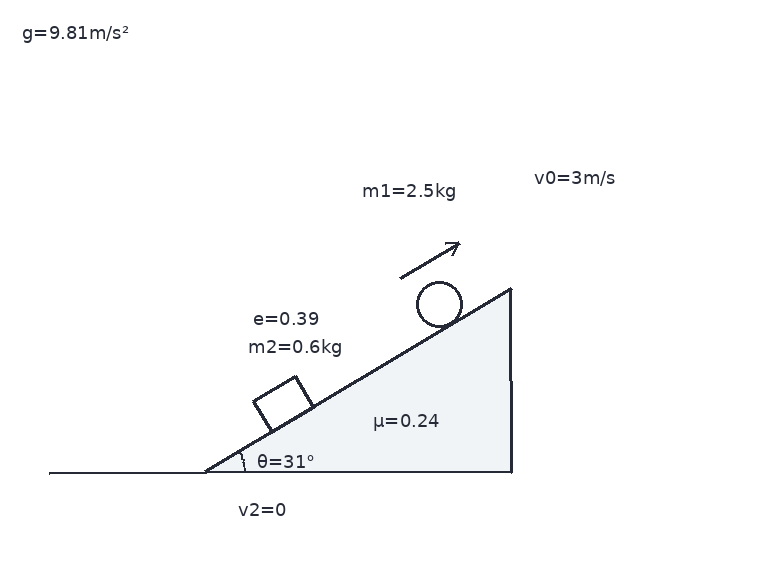ball: (414, 279, 464, 329)
block: (251, 374, 315, 434)
ramp: (203, 286, 513, 474)
